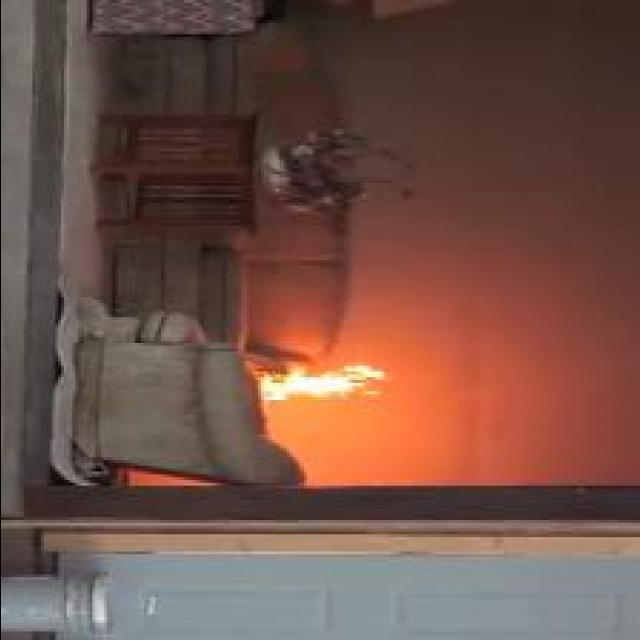Fire: (262, 364, 388, 402)
